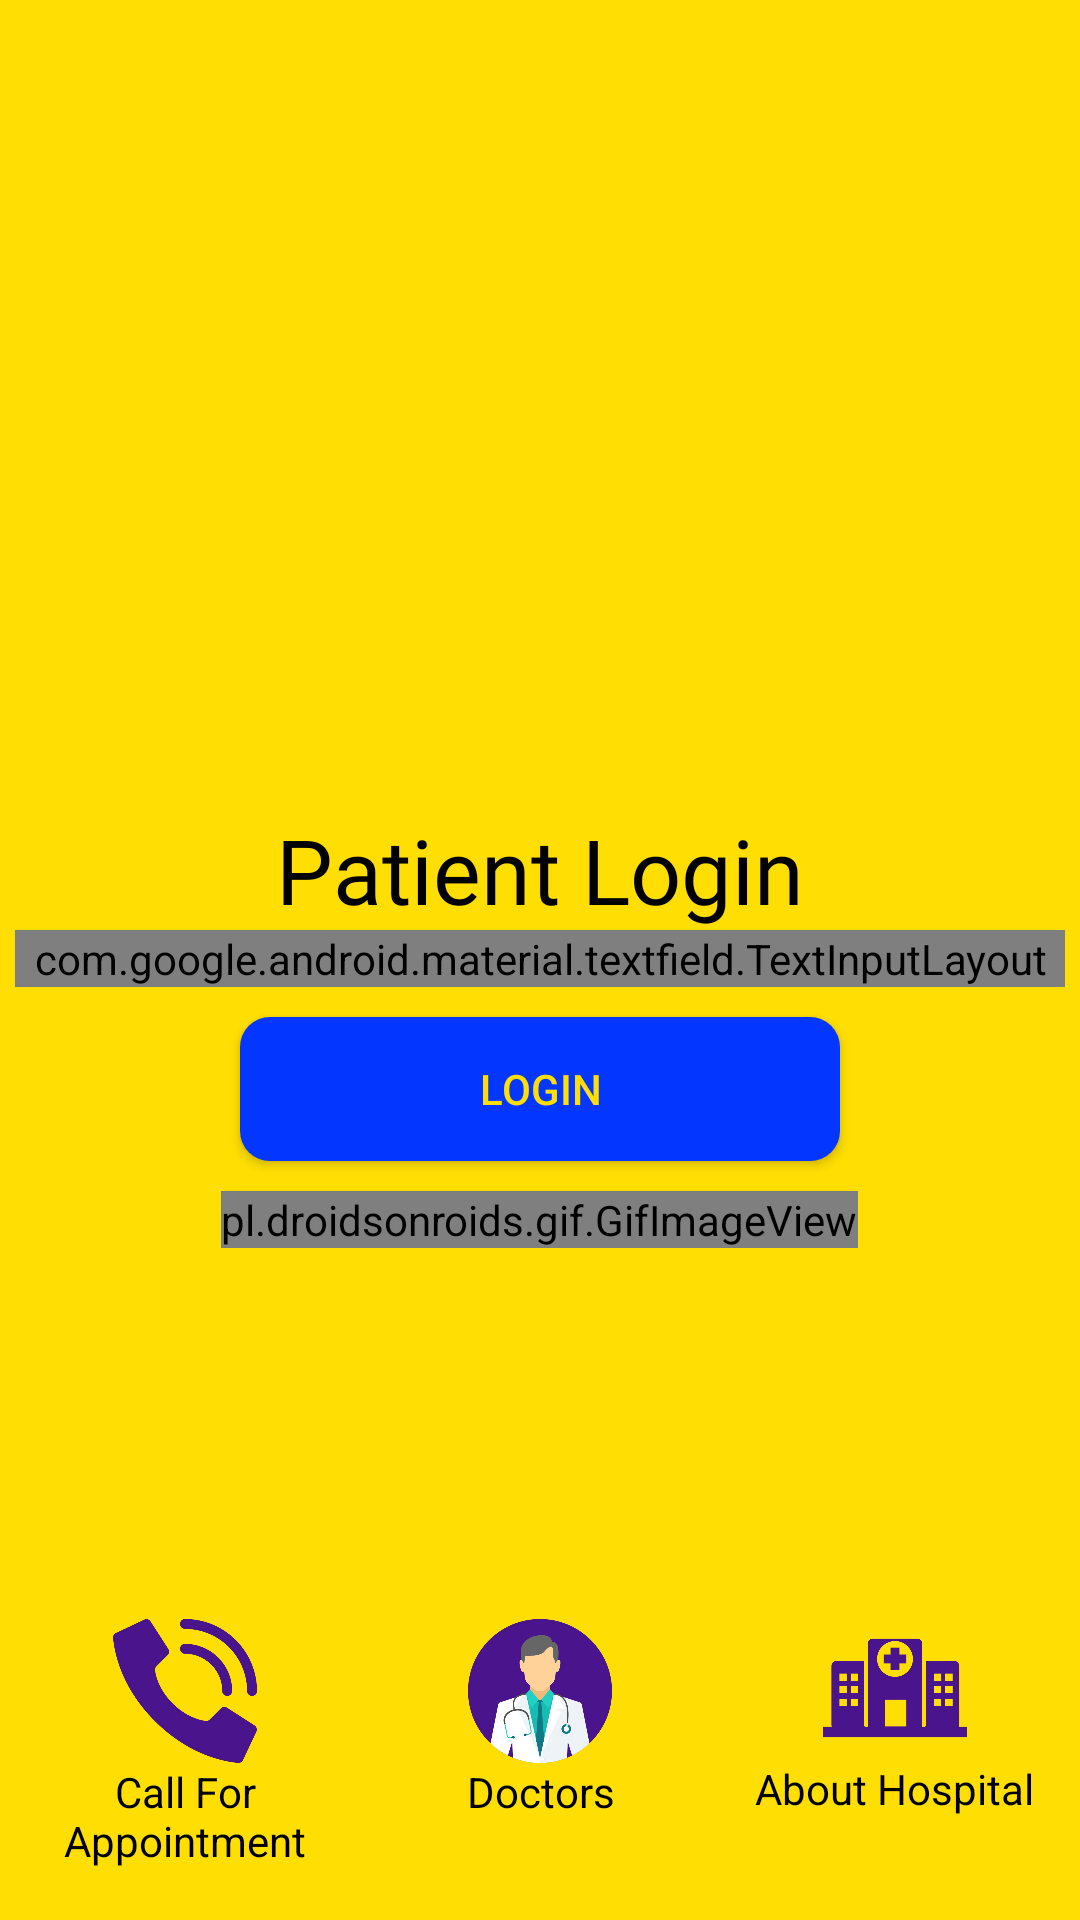

Where icons sit on this 1080px x 1920px app screen, as detection(x1, y1, x2, y2):
hospital buildings: detection(823, 1639, 967, 1737)
phone call: detection(113, 1619, 257, 1763)
